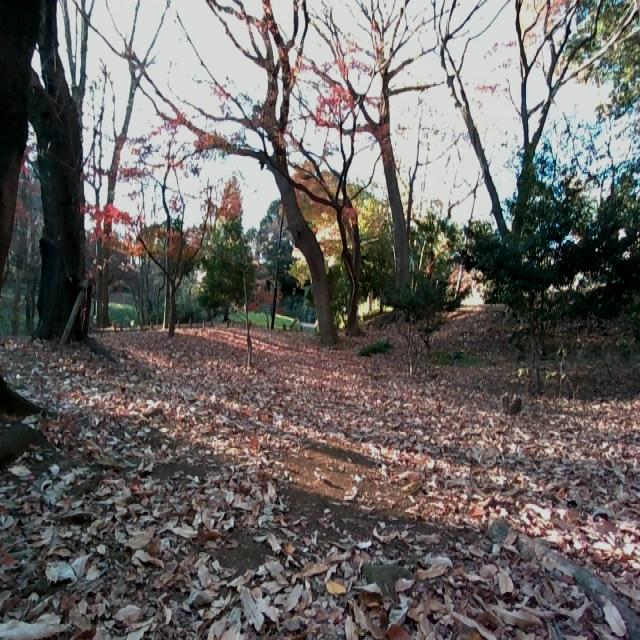bush: (445, 165, 640, 327)
tree: (413, 2, 617, 314), (183, 0, 345, 347), (322, 0, 433, 317), (5, 0, 104, 343), (0, 0, 68, 449), (286, 65, 372, 346), (140, 132, 208, 342)
